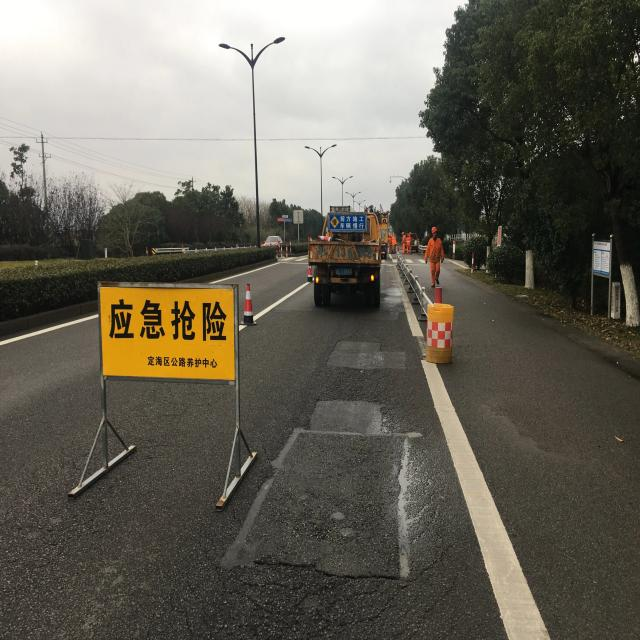Pothole: (255, 386, 424, 592), (327, 343, 414, 377)
